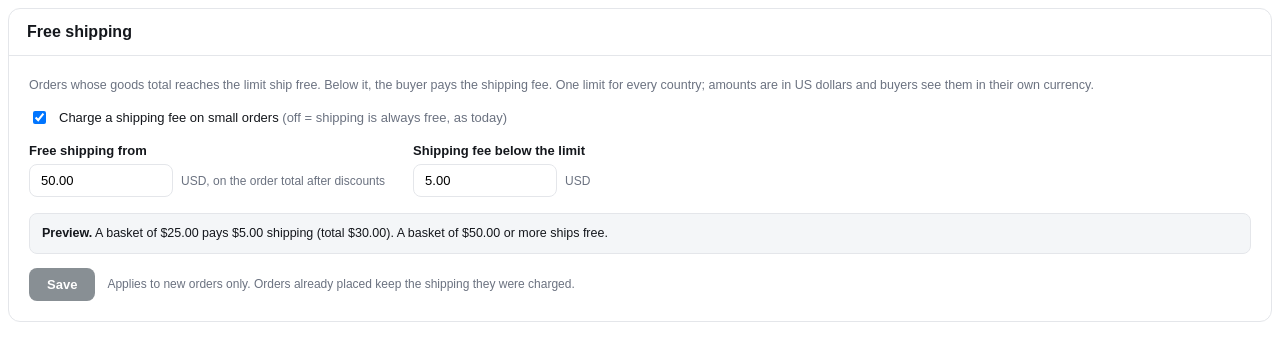
Test: what it shows › the preview follows what is typed
The width and height of the screenshot is (1280, 339).
Replace the text in the field labelled "Free shipping from" with "80": coordinates (101, 181) [29,164,173,197]
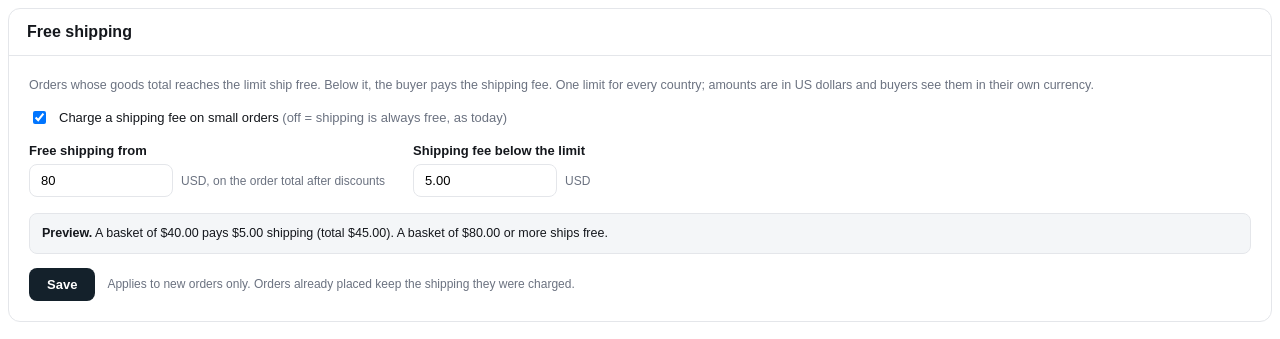
Replace the text in the field labelled "Shipping fee below the limit" with "6.5": coordinates (485, 181) [413,164,557,197]
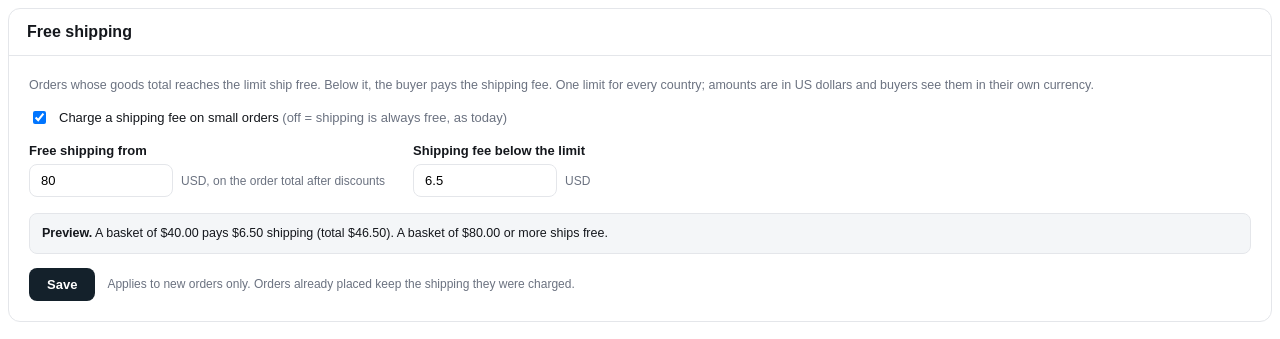
Result: the element with test id "free-shipping-preview" shows "A basket of $40.00 pays $6.50 shipping (total $46.50). A basket of $80.00 or more ships free." at [95,226,608,240]
